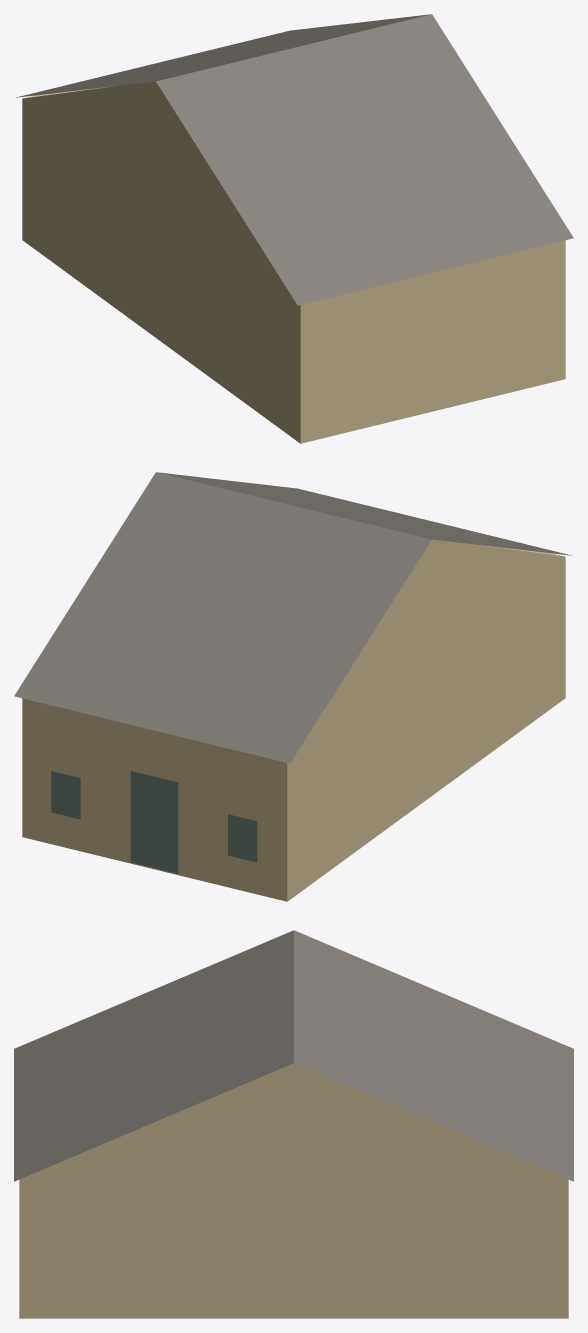
File: recon_1835_north_f1_022__recommended_1835.glb
The picture shows the model from 3 angles, top to bottom: view 1: azimuth 30°, elevation 25°; view 2: azimuth 150°, elevation 25°; view 3: azimuth 270°, elevation 25°; orthographic projection.
Visible parts, largest first — view 1: recon_1835_north_f1_022__recommended_1835; view 2: recon_1835_north_f1_022__recommended_1835; view 3: recon_1835_north_f1_022__recommended_1835.
Boxes of the visible parts, x1,y1,x2,y2 form: recon_1835_north_f1_022__recommended_1835: (16,14,573,443); recon_1835_north_f1_022__recommended_1835: (14,472,571,901); recon_1835_north_f1_022__recommended_1835: (14,930,573,1318).
Bounding box in the file's own units: 6.99 × 6.33 × 12.43.
